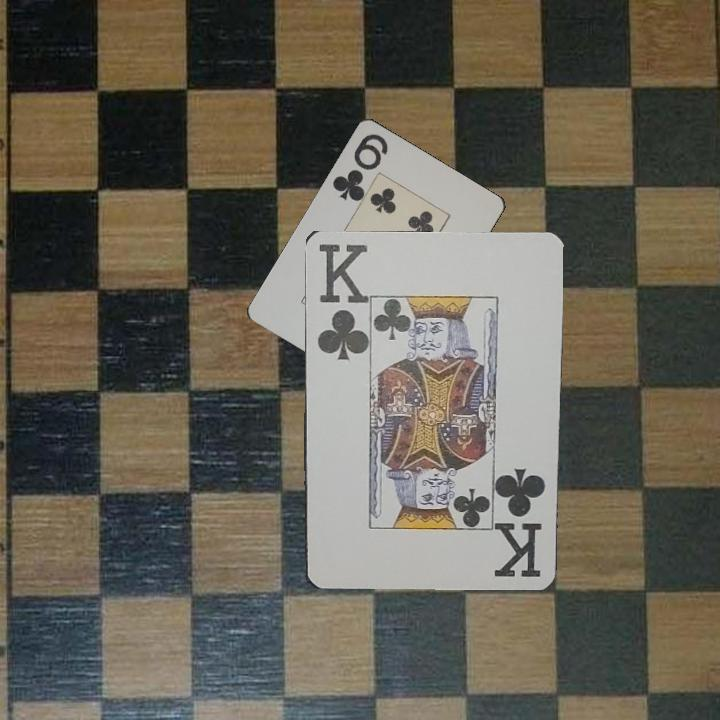6c: (329, 130, 391, 205)
Kc: (314, 240, 367, 368), (498, 464, 548, 580)
